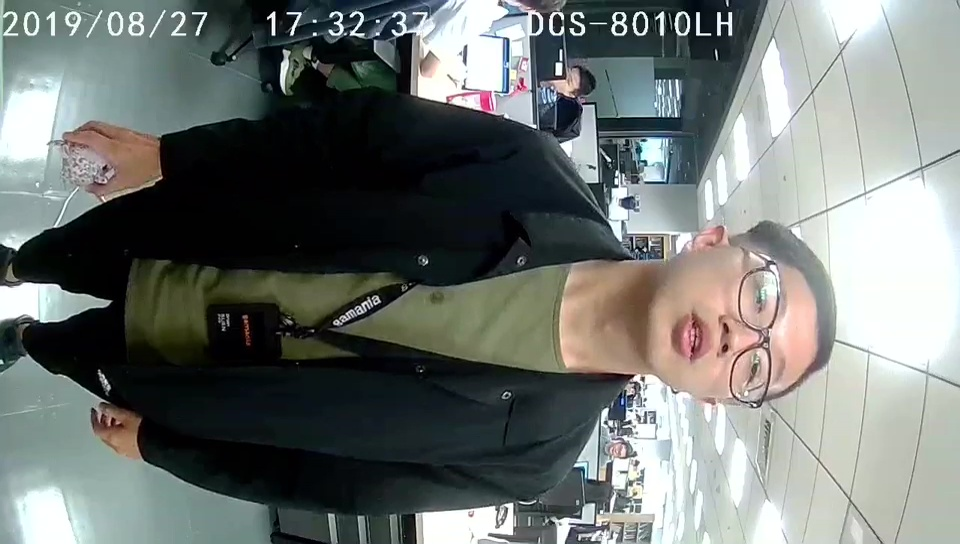pig: (64, 141, 116, 188)
